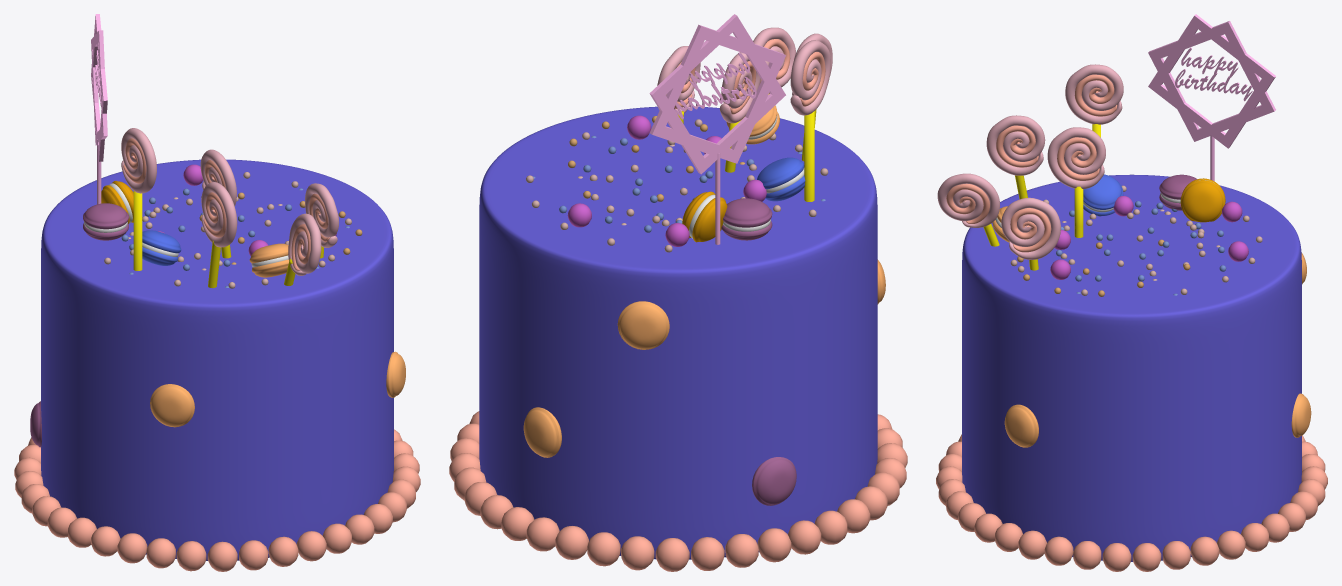
Rendered from Cake_Layer_1_Purple_Topper2_SpiralCandy_NoDrip.glb.
3 views of the same model, side by side, from view 1: azimuth 30°, elevation 25°; view 2: azimuth 150°, elevation 25°; view 3: azimuth 270°, elevation 25° (orthographic). The views are drawn at different scales.
Parts seen in each view (by area): view 1: Circle, Sphere, Cylinder.006, Torus.005, Spiral.006, Spiral.004, Spiral.008, Torus.003, Spiral.010, Torus.013, Sphere.004, Torus.011 (+7 smaller); view 2: Circle, Sphere, Cylinder.006, Torus.009, Spiral.004, Torus.010, Torus.003, Torus.007, Torus.013, Sphere.004, Torus.001, Spiral.002 (+6 smaller); view 3: Circle, Sphere, Cylinder.006, Spiral.002, Spiral.010, Spiral.006, Spiral.004, Spiral.008, Torus.001, Torus.006, Sphere.004, Torus.013 (+9 smaller).
Part boxes in pixels (x1,y1,x2,y2): Circle: (41,159,393,560); Sphere: (14,429,420,571); Cylinder.006: (91,14,107,204); Torus.005: (150,384,194,427); Spiral.006: (201,182,237,247); Spiral.004: (121,128,156,193); Spiral.008: (288,213,321,275); Torus.003: (83,203,128,240); Spiral.010: (305,183,339,247); Torus.013: (142,230,181,265); Sphere.004: (104,172,351,288); Torus.011: (249,243,288,277); Circle: (479,106,877,559); Sphere: (449,411,907,571); Cylinder.006: (649,14,785,244); Torus.009: (617,301,669,349); Spiral.004: (790,40,830,115); Torus.010: (752,457,796,505); Torus.003: (721,198,772,240); Torus.007: (523,407,561,457); Torus.013: (757,157,805,201); Sphere.004: (526,119,828,252); Torus.001: (682,191,727,242); Spiral.002: (719,52,760,123); Circle: (962,174,1301,561); Sphere: (936,434,1327,571); Cylinder.006: (1148,14,1275,181); Spiral.002: (1047,127,1105,189); Spiral.010: (1001,197,1060,259); Spiral.006: (986,115,1045,175); Spiral.004: (1065,64,1123,124); Spiral.008: (937,173,999,227); Torus.001: (1180,178,1225,222); Torus.006: (1004,404,1038,447); Sphere.004: (1010,185,1262,295); Torus.013: (1083,174,1123,215).
Bounding box in the file's own units: 0.1712 × 0.213 × 0.1718.
